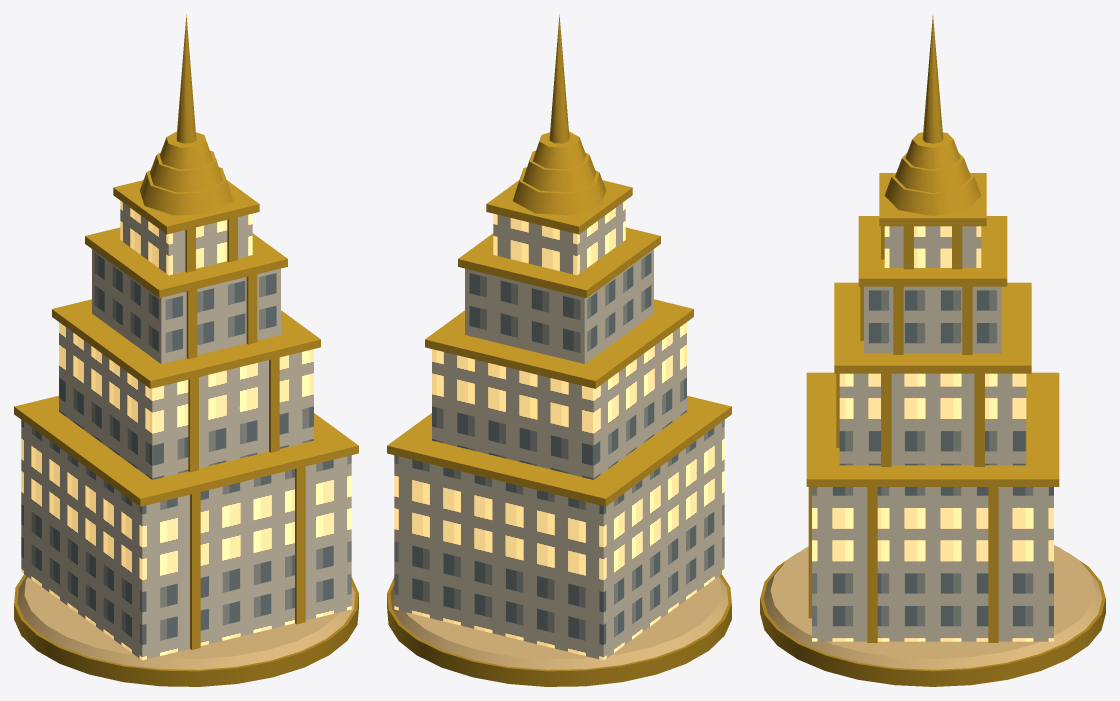
The model's file is tier-13-art-deco-spire.glb.
3 renders of one model, left to right at view 1: azimuth 30°, elevation 25°; view 2: azimuth 150°, elevation 25°; view 3: azimuth 270°, elevation 25°, orthographic.
Visible parts, largest first — view 1: window, gloss, matte; view 2: window, gloss, matte; view 3: window, gloss, matte.
Part boxes in pixels (box(x1,y1,x2,y2)): window: box(21, 201, 351, 660); gloss: box(14, 14, 358, 649); matte: box(14, 574, 358, 686); window: box(394, 201, 724, 660); gloss: box(387, 14, 731, 506); matte: box(387, 574, 731, 686); window: box(812, 226, 1053, 641); gloss: box(806, 16, 1059, 642); matte: box(760, 545, 1105, 686).
Bounding box in the file's own units: 1 × 1.91 × 1.
3 materials, 1 textured.
